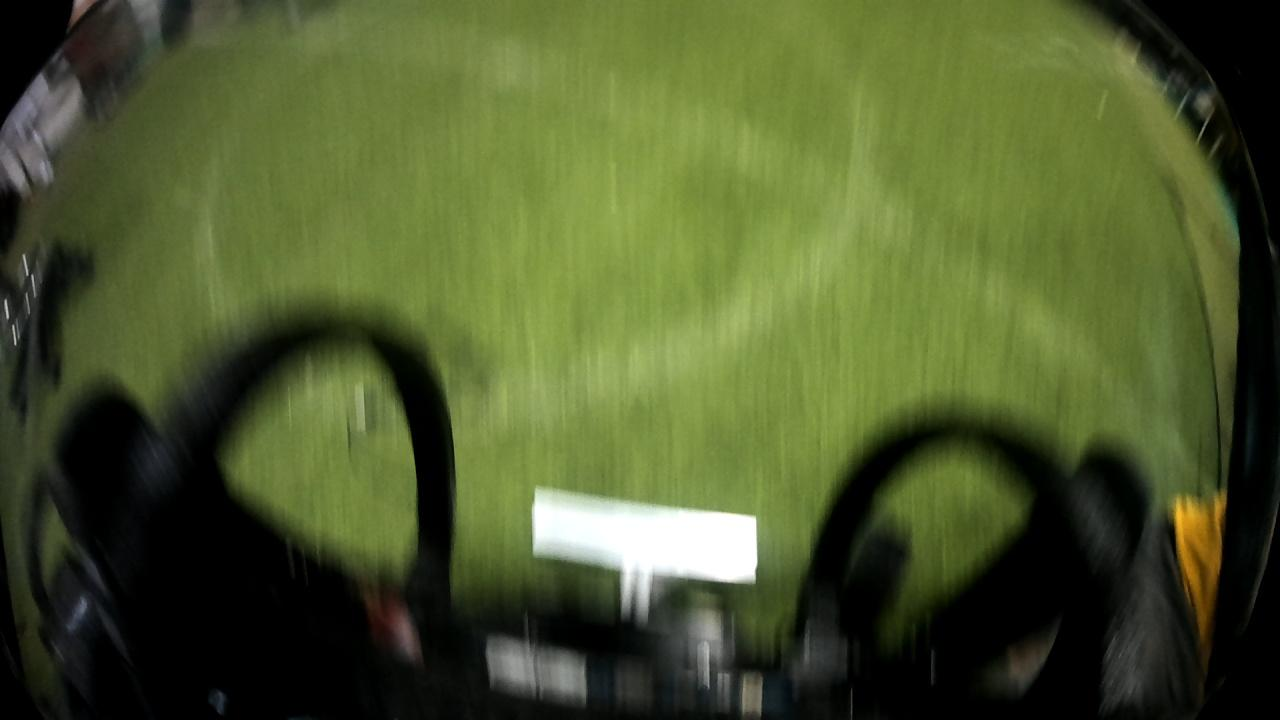ball: (38, 153, 54, 198)
